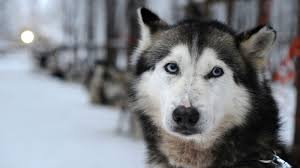Siberian Husky: (99, 2, 291, 163)
